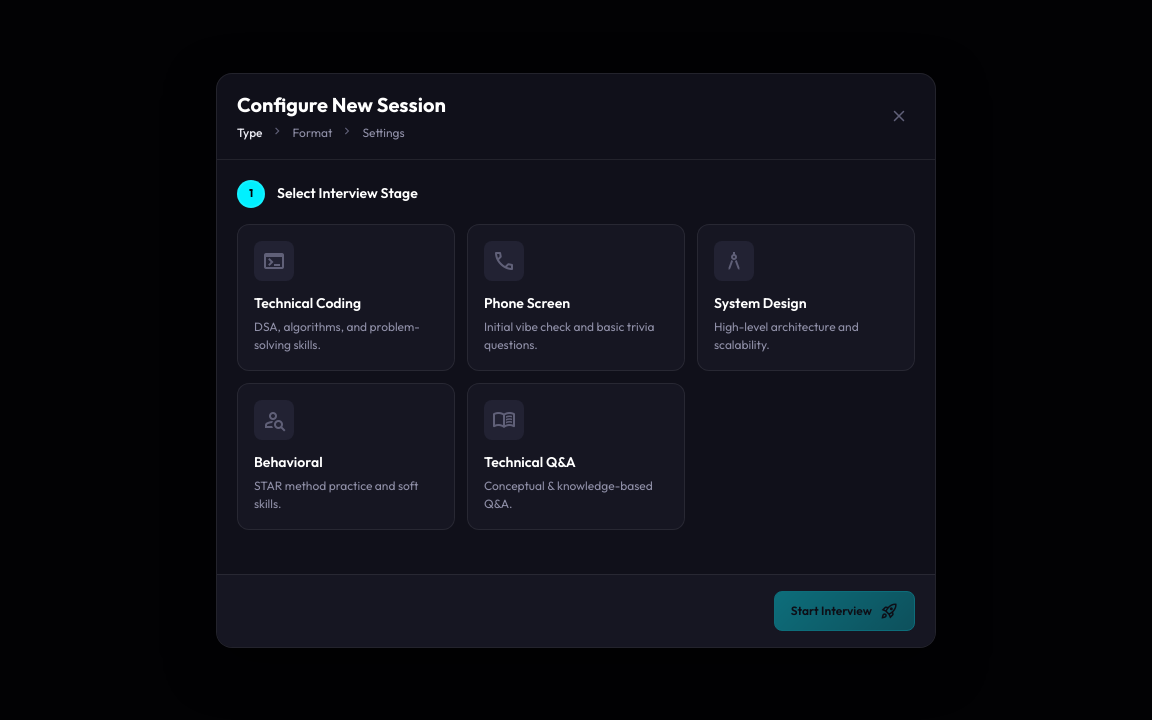
InterviewLauncher › Technical Coding stage — format selection › selecting Technical Coding shows format section
The width and height of the screenshot is (1152, 720).
Click the text "Technical Coding": (308, 302) [254, 294, 361, 312]
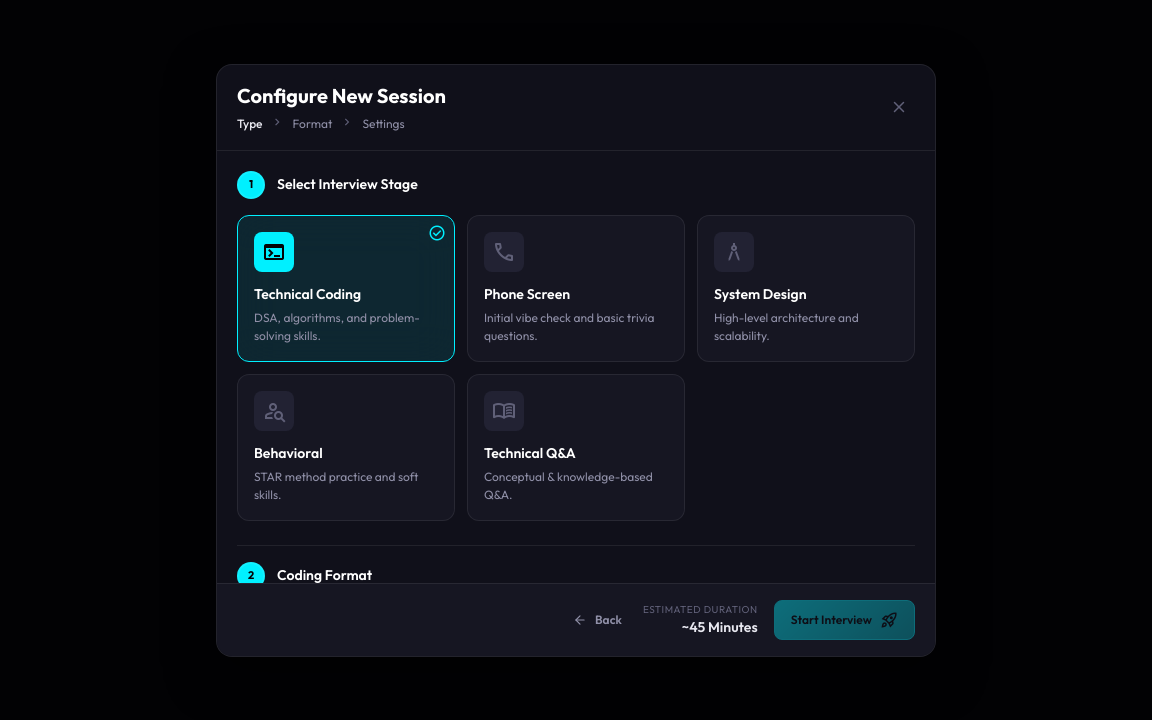
Now the text "Coding Format" is shown, box [277, 565, 372, 582]
